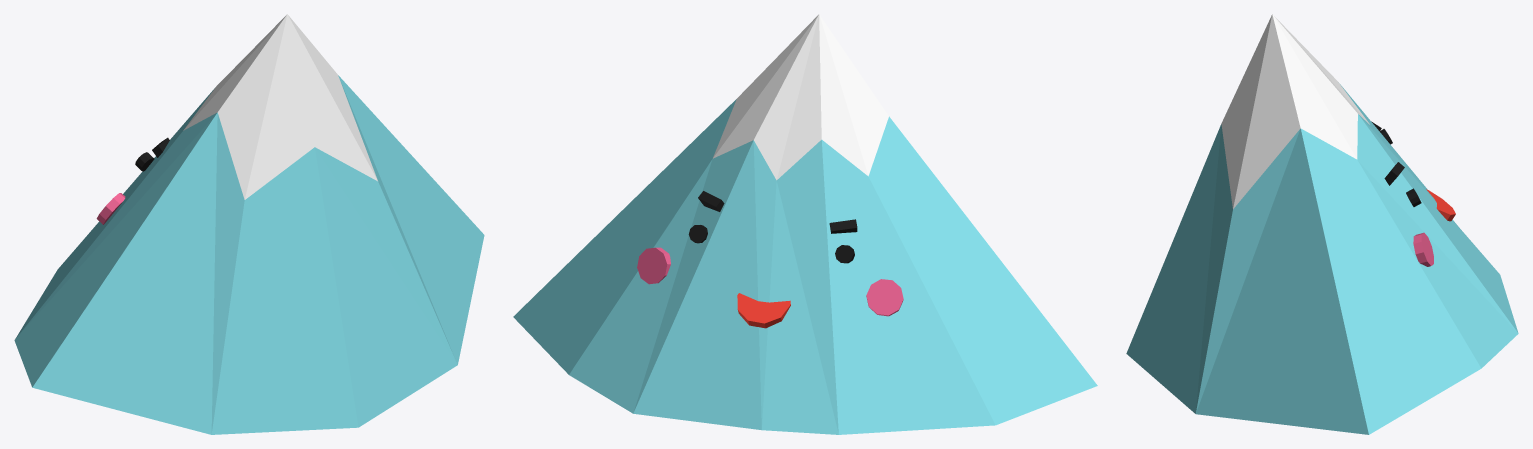
The picture shows the model from 3 angles, left to right: view 1: azimuth 30°, elevation 25°; view 2: azimuth 150°, elevation 25°; view 3: azimuth 270°, elevation 25°; orthographic projection. The views are drawn at different scales.
Parts seen in each view (by area): view 1: group275824978; view 2: group275824978, group790248983, group1340977014, group320206032; view 3: group275824978, group320206032.
Part boxes in pixels (box(x1,y1,x2,y2)): group275824978: box(14, 14, 484, 434); group275824978: box(513, 14, 1097, 434); group790248983: box(737, 293, 790, 328); group1340977014: box(866, 279, 903, 316); group320206032: box(637, 247, 670, 284); group275824978: box(1126, 14, 1518, 434); group320206032: box(1413, 232, 1433, 266).
Bounding box in the file's own units: 0.3232 × 0.2157 × 0.2242.
